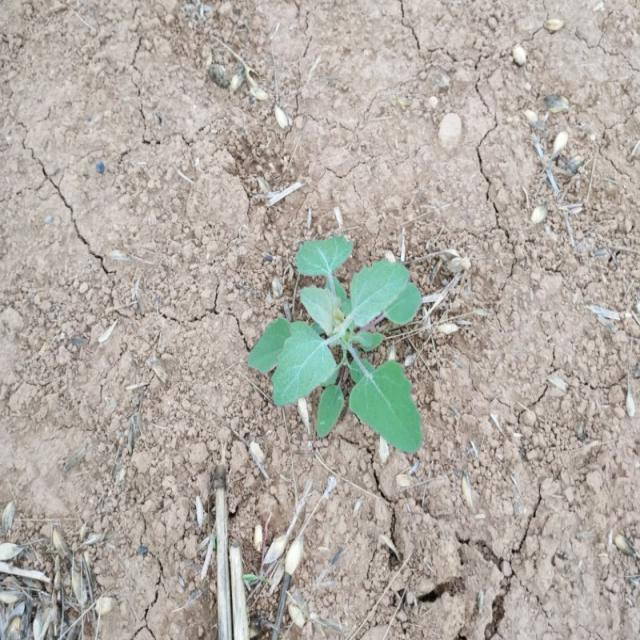goosefoots: (258, 217, 479, 472)
